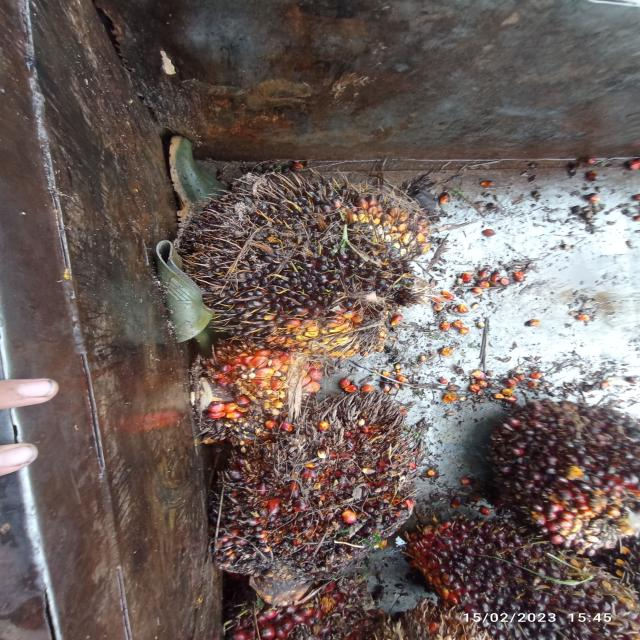fraksi 00: (158, 165, 467, 361)
fraksi 1: (406, 486, 636, 640)
fraksi 4: (218, 376, 416, 600), (181, 343, 329, 445)
